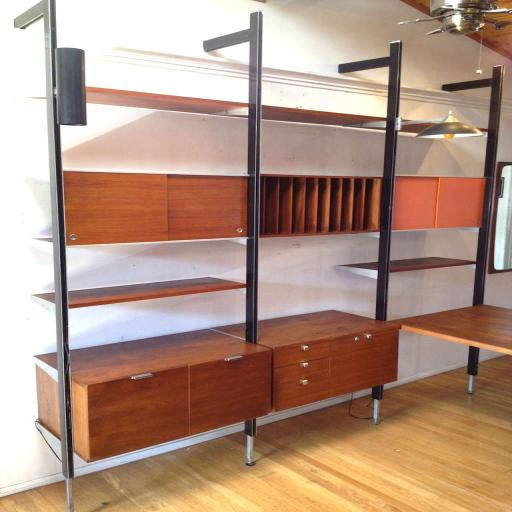desk: (386, 305, 511, 357)
wall: (0, 0, 511, 495)
